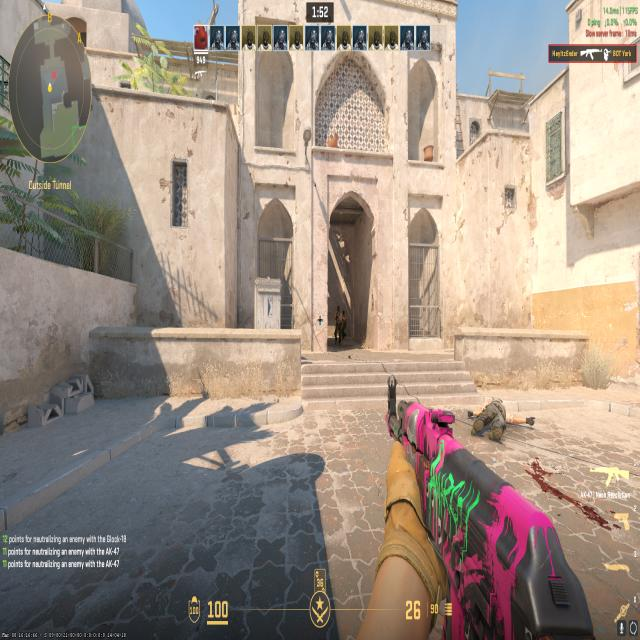t: (333, 302, 342, 342), (340, 307, 350, 342)
